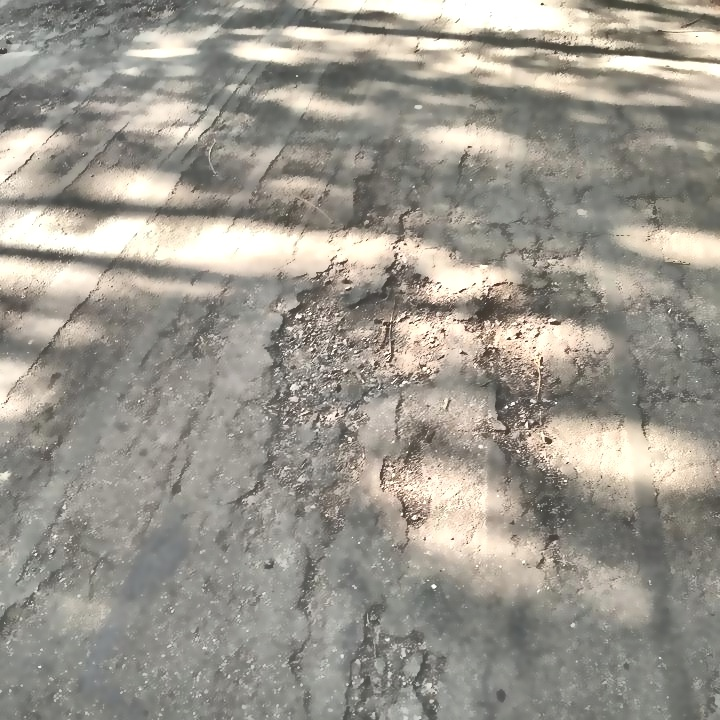pothole: (265, 257, 465, 424), (476, 277, 561, 451)
